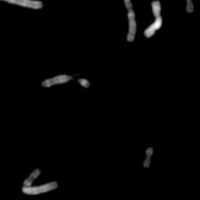chromosome: (22, 167, 58, 194), (143, 0, 162, 37), (119, 0, 136, 41), (42, 74, 74, 87), (0, 0, 43, 9), (142, 147, 153, 169), (77, 78, 92, 88), (185, 0, 194, 12), (196, 0, 200, 9)
